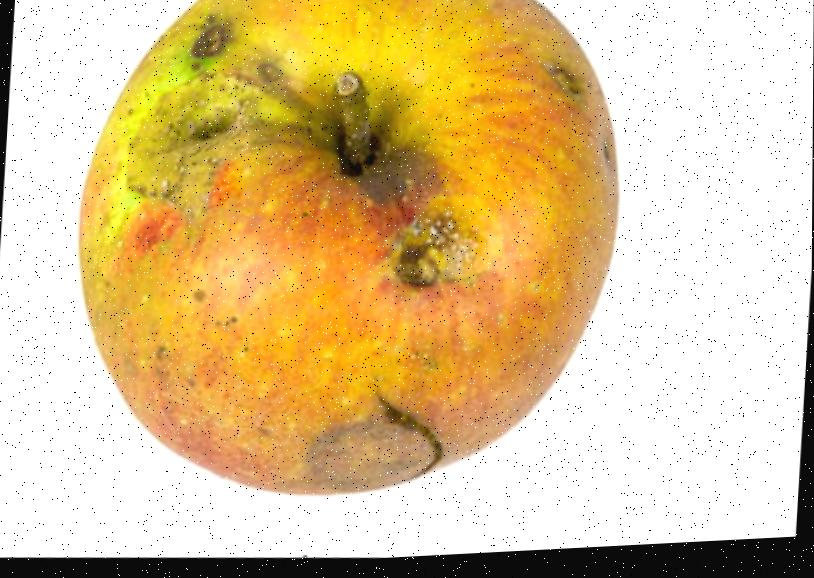ROT: (30, 0, 656, 568)
